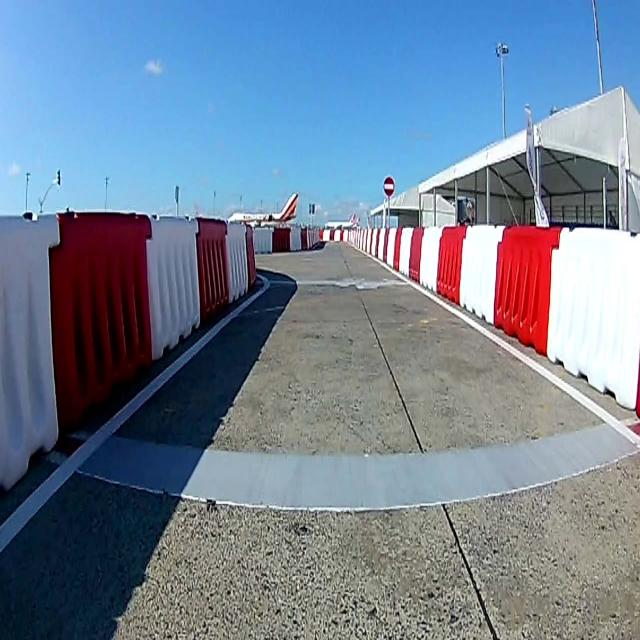girisyok: (383, 175, 395, 197)
